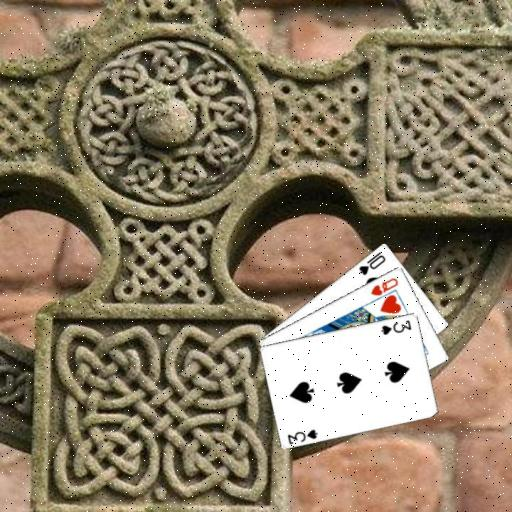10S: (355, 249, 387, 277)
3S: (378, 317, 413, 337), (285, 426, 320, 445)
QH: (368, 275, 400, 298)
